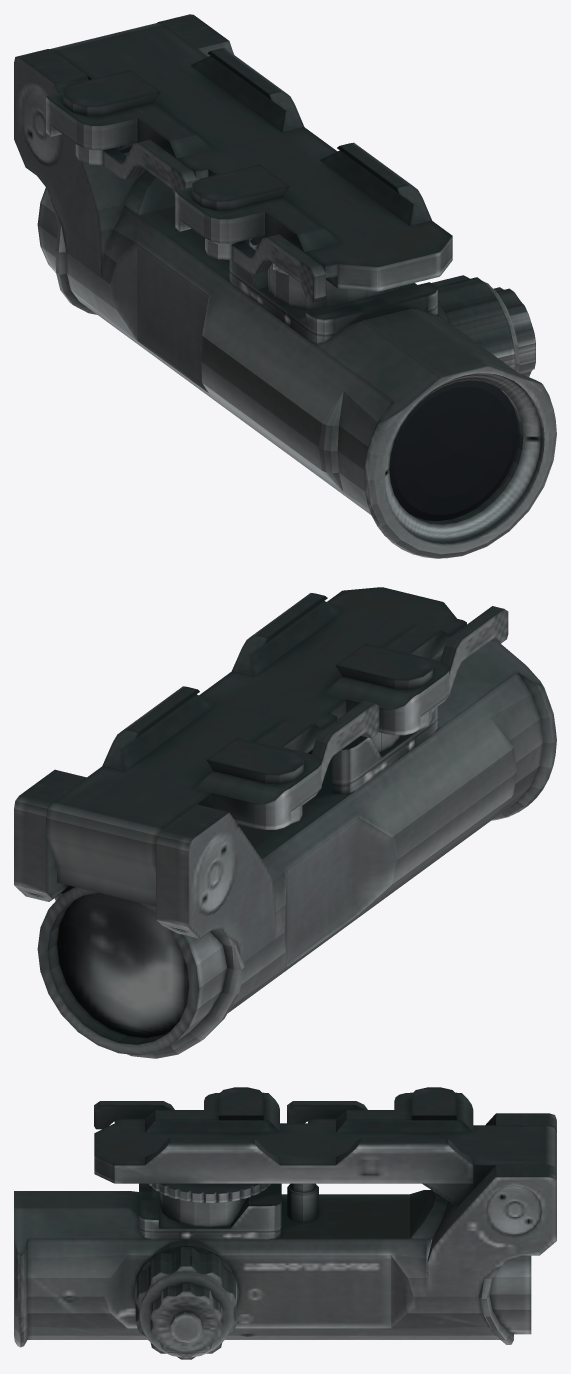
3 renders of one model, top to bottom at view 1: azimuth 30°, elevation 25°; view 2: azimuth 150°, elevation 25°; view 3: azimuth 270°, elevation 25°, orthographic. The views are drawn at different scales.
Visible parts, largest first — view 1: TW_544a3f024bdc2d1d388b4568_PZ_Import; view 2: TW_544a3f024bdc2d1d388b4568_PZ_Import; view 3: TW_544a3f024bdc2d1d388b4568_PZ_Import.
Part boxes in pixels (x1,y1,x2,y2): TW_544a3f024bdc2d1d388b4568_PZ_Import: [14, 14, 556, 558]; TW_544a3f024bdc2d1d388b4568_PZ_Import: [14, 587, 556, 1058]; TW_544a3f024bdc2d1d388b4568_PZ_Import: [14, 1087, 556, 1359].
Size of the model in its own units: 0.0413 by 0.0884 by 0.0385.
1 material, 1 textured.
